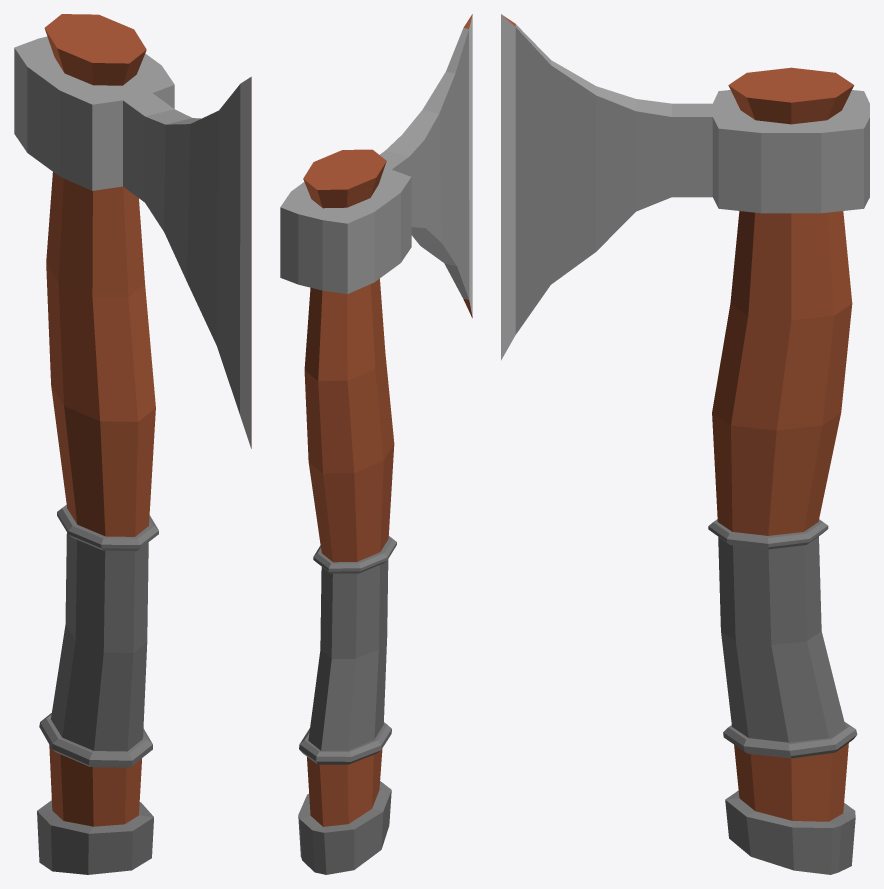
Rendered from hacha (1).fbx.
3 renders of one model, left to right at view 1: azimuth 30°, elevation 25°; view 2: azimuth 150°, elevation 25°; view 3: azimuth 270°, elevation 25°, orthographic. The views are drawn at different scales.
Visible parts, largest first — view 1: Cube; view 2: Cube; view 3: Cube.
Boxes of the visible parts, left/top/right/bottom form: Cube: left=14, top=14, right=251, bottom=874; Cube: left=280, top=14, right=472, bottom=874; Cube: left=501, top=14, right=869, bottom=874.
Size of the model in its own units: 45.01 by 384 by 151.
